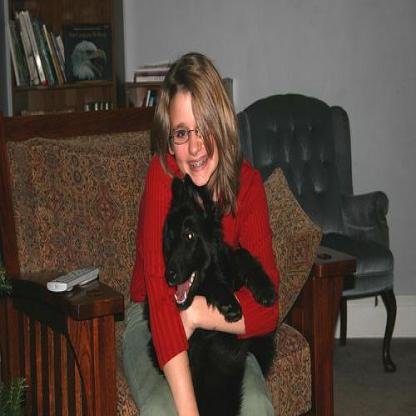groenendael: (141, 172, 277, 414)
